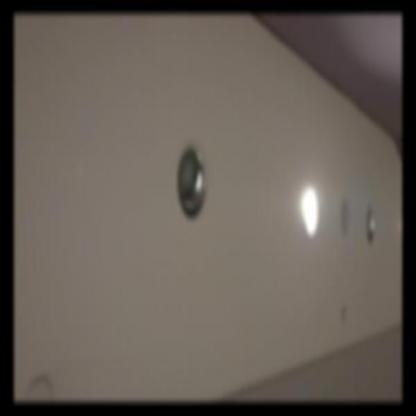light_off: (168, 121, 210, 226), (363, 181, 378, 261)
